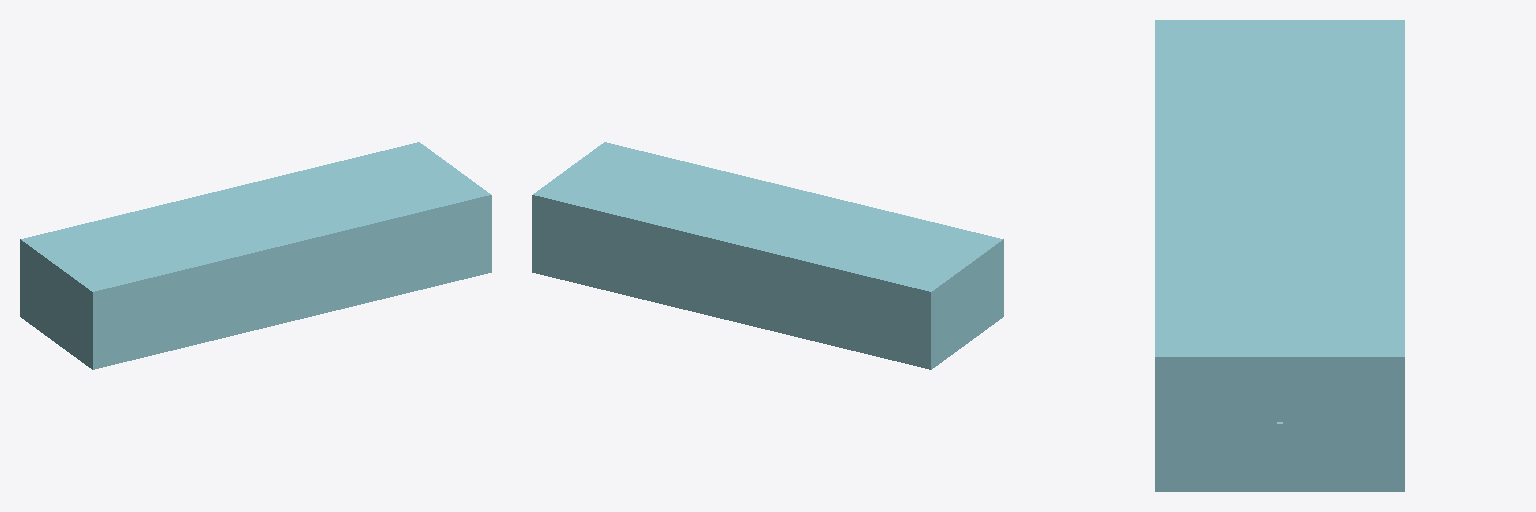
The robot description file, URDF, robot "cuboid_eraser_v7010":
<?xml version="1.0"?>
<robot name="cuboid_eraser_v7010">

  <link name="cuboid_eraser_v7010">
    <!-- Handle -->
    <visual>
      <origin xyz="0 0 0" rpy="0 0 0"/>
      <geometry>
        <box size="0.14322390082284436 0.044845829806517475 0.026718345665653075"/>
      </geometry>
      <material name="material">
        <color rgba="0.639 0.847 0.882 1.0"/>
      </material>
    </visual>
    <collision>
      <origin xyz="0 0 0" rpy="0 0 0"/>
      <geometry>
        <box size="0.14322390082284436 0.044845829806517475 0.026718345665653075"/>
      </geometry>
    </collision>

    <!-- Head -->
    <visual>
      <origin xyz="0.07211195041142218 0 0" rpy="0 0 0"/>
      <geometry>
        <box size="0.001 0.001 0.001"/>
      </geometry>
      <material name="material">
        <color rgba="0.639 0.847 0.882 1.0"/>
      </material>
    </visual>
    <collision>
      <origin xyz="0.07211195041142218 0 0" rpy="0 0 0"/>
      <geometry>
        <box size="0.001 0.001 0.001"/>
      </geometry>
    </collision>

    <inertial>
      <density value="400.0"/>
    </inertial>
  </link>

</robot>

--- Facts derived from the render (not from the file) ---
The picture shows the robot from 3 angles, left to right: view 1: azimuth 30°, elevation 25°; view 2: azimuth 150°, elevation 25°; view 3: azimuth 270°, elevation 25°; orthographic projection.
Model cuboid_eraser_v7010 with 1 links and 0 joints (none), rooted at cuboid_eraser_v7010, posed every joint at zero.
Visible links, largest first — view 1: cuboid_eraser_v7010; view 2: cuboid_eraser_v7010; view 3: cuboid_eraser_v7010.
Boxes of the visible links, x1,y1,x2,y2 form: cuboid_eraser_v7010: (20, 142, 491, 369); cuboid_eraser_v7010: (532, 142, 1003, 369); cuboid_eraser_v7010: (1155, 20, 1404, 491).
Size in the robot's own frame: 0.1442 by 0.0448 by 0.0267 metres.
Geometry: primitives only (box / cylinder / sphere), no mesh files.
